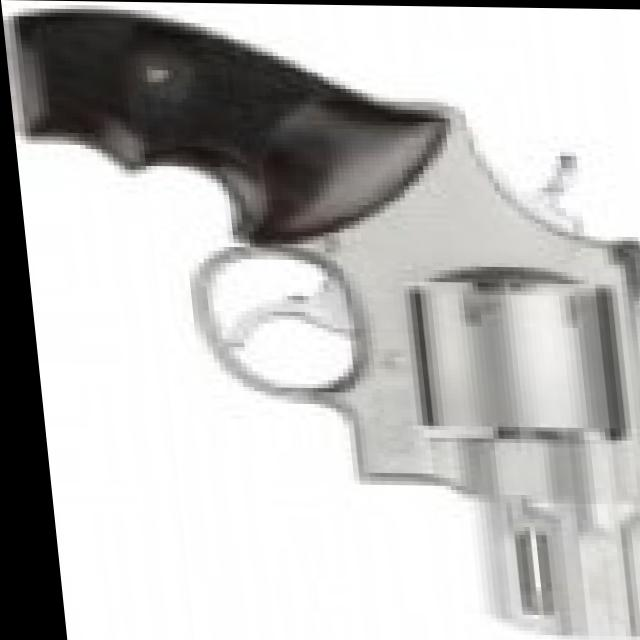handgun: (16, 4, 640, 631)
